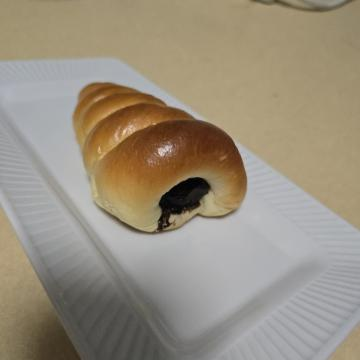cream horn: (66, 107, 252, 293)
